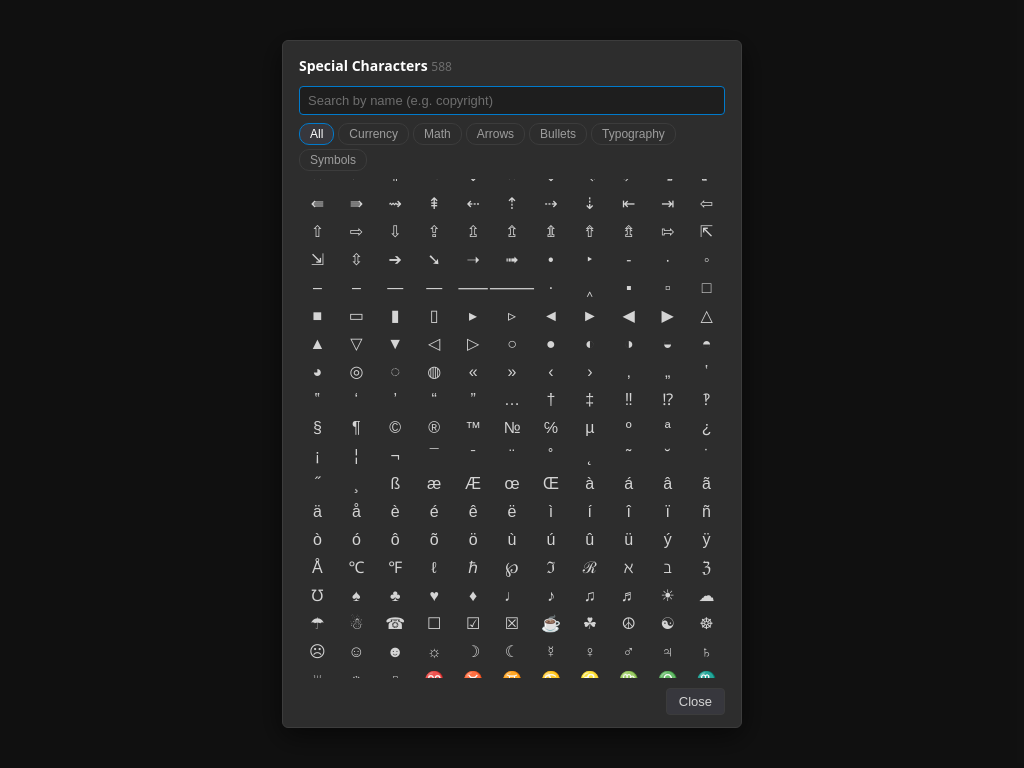
SymbolDialog component › a pick inserts the character, records the recent, and stays open
(page scrolled)
Click the option "©" at {"x": 395, "y": 428}, box left=377, top=415, right=414, bottom=441
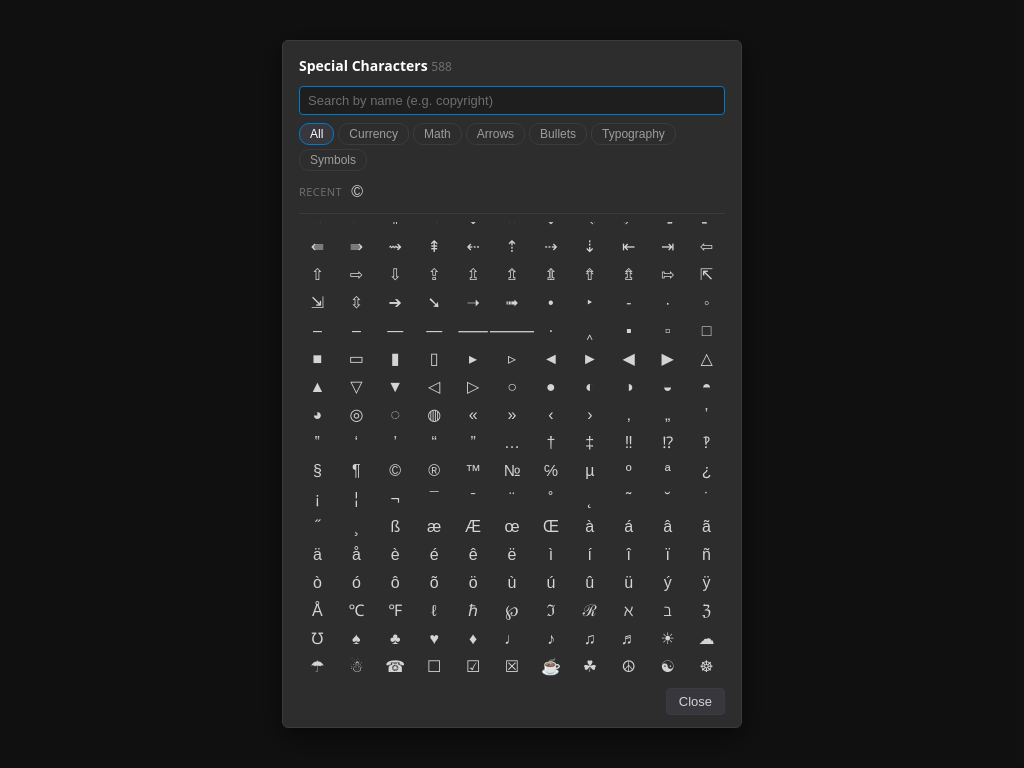
Now the text "Recent" is shown, box left=299, top=184, right=342, bottom=200
